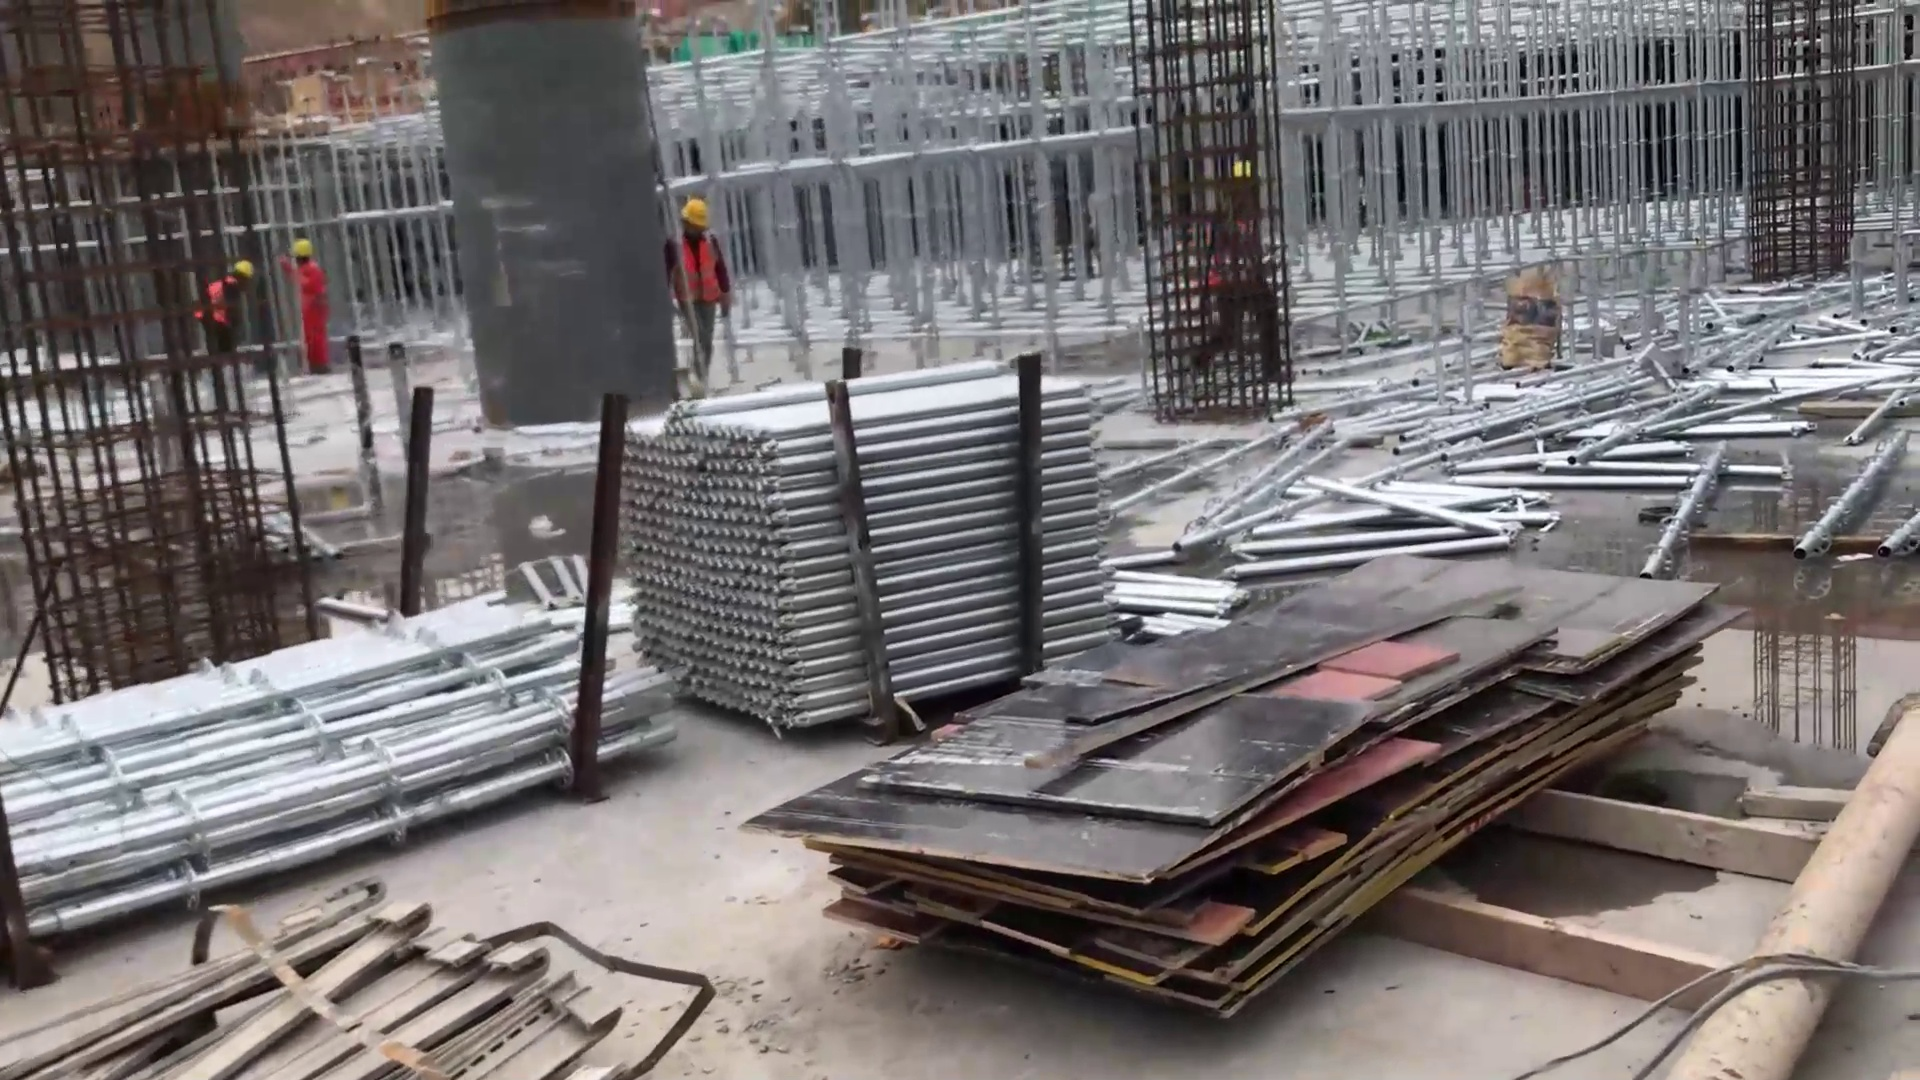board: (725, 553, 1733, 1030)
helmet: (681, 200, 712, 232), (235, 259, 258, 279), (292, 241, 314, 260)
person: (662, 200, 736, 385), (196, 253, 270, 357), (282, 239, 336, 375)
scaffold: (1, 589, 678, 939), (611, 354, 1097, 731)
vest: (675, 237, 722, 312), (207, 276, 237, 328)
